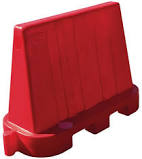barrier: (3, 1, 138, 156)
